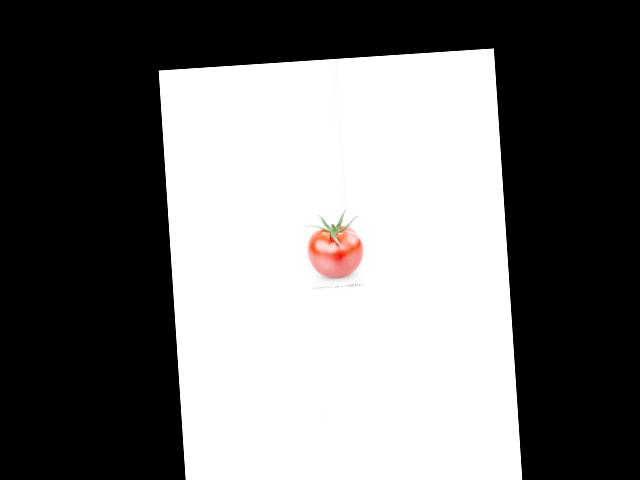tomato: (306, 224, 365, 278)
